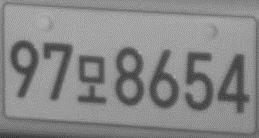4: (216, 52, 250, 114)
5: (184, 51, 214, 111)
6: (148, 48, 180, 108)
7: (41, 41, 73, 101)
8: (114, 46, 145, 106)
9: (8, 38, 39, 97)
모: (76, 54, 107, 103)
